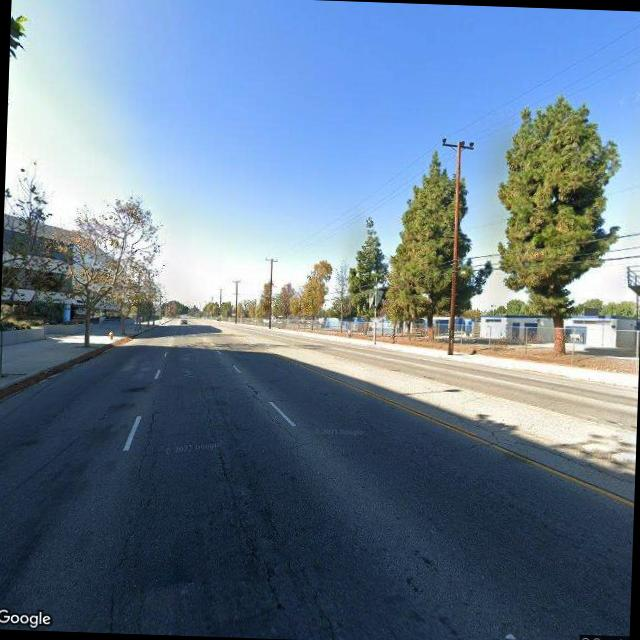pothole: (192, 382, 340, 632), (102, 380, 166, 624), (239, 374, 304, 444)
